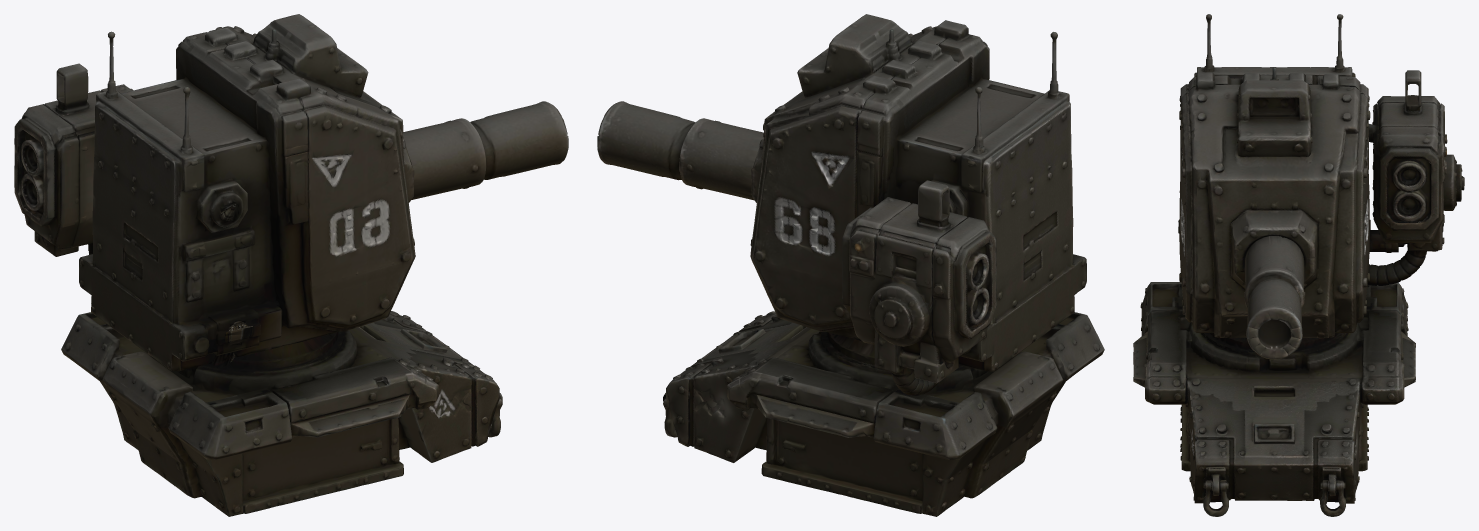
File: IA_Shared_Turret.fbx
3 views of the same model, side by side, from view 1: azimuth 30°, elevation 25°; view 2: azimuth 150°, elevation 25°; view 3: azimuth 270°, elevation 25° (orthographic). The views are drawn at different scales.
Parts seen in each view (by area): view 1: Cabine, Body, Cabine.001, Weapon; view 2: Cabine, Body, Cabine.001, Weapon; view 3: Cabine, Body, Cabine.001, Weapon.
Part boxes in pixels (left/top/right/bottom): Cabine: left=79, top=14, right=415, bottom=371; Body: left=61, top=311, right=502, bottom=516; Cabine.001: left=14, top=63, right=133, bottom=256; Weapon: left=403, top=101, right=568, bottom=199; Cabine: left=750, top=14, right=1086, bottom=371; Body: left=663, top=311, right=1104, bottom=516; Cabine.001: left=842, top=180, right=996, bottom=395; Weapon: left=597, top=101, right=763, bottom=200; Cabine: left=1178, top=14, right=1371, bottom=338; Body: left=1133, top=282, right=1415, bottom=516; Cabine.001: left=1367, top=70, right=1464, bottom=285; Weapon: left=1244, top=236, right=1305, bottom=359.
Size of the model in its own units: 102 by 93.59 by 75.72.
